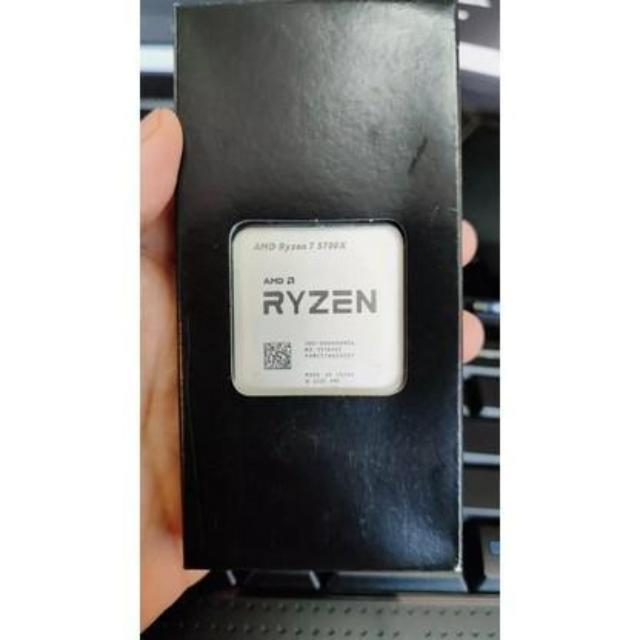CPU: (228, 226, 406, 397)
